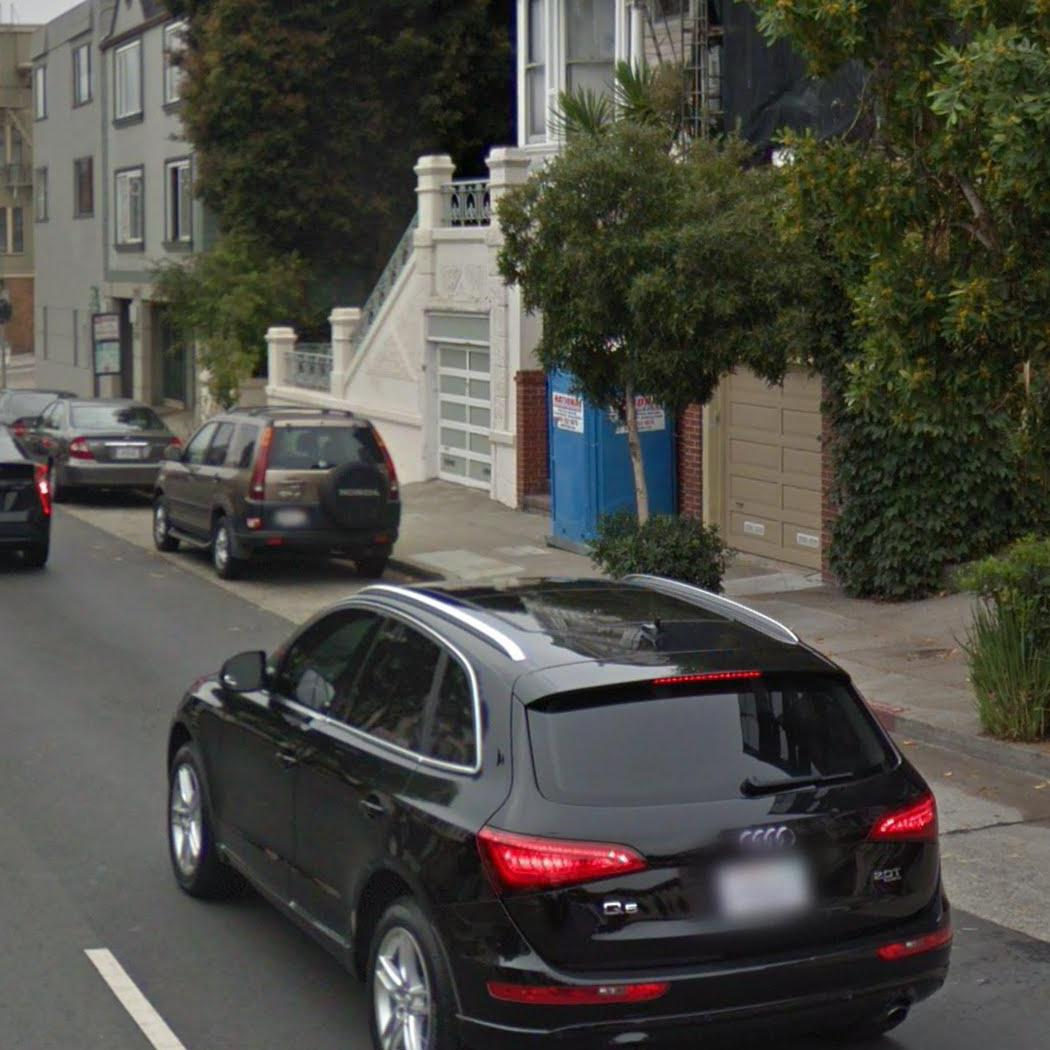2 Hour Parking: (93, 344, 123, 375)
No Parking: (89, 312, 123, 338)
